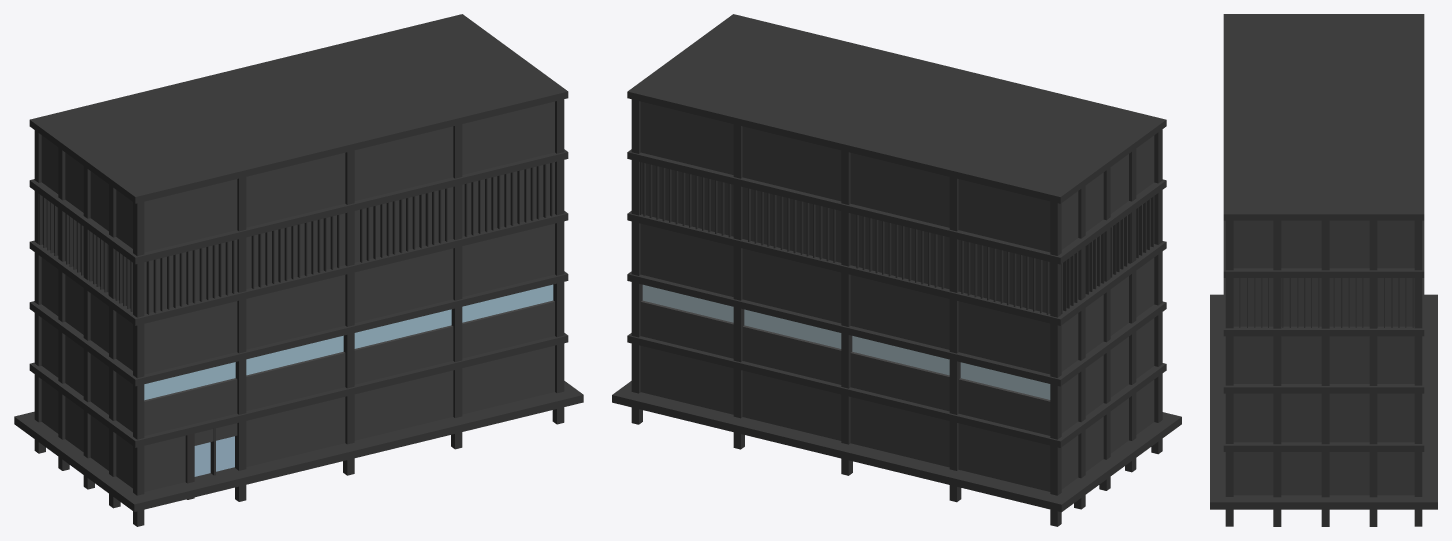
File: Factory.fbx
The picture shows the model from 3 angles, left to right: view 1: azimuth 30°, elevation 25°; view 2: azimuth 150°, elevation 25°; view 3: azimuth 270°, elevation 25°; orthographic projection. The views are drawn at different scales.
Visible parts, largest first — view 1: Cube.001, Cube.014, Cube, Cube.022, Cube.016, Cube.017, Cube.015, Cube.018, Cube.003, Cube.008, Cube.002, Cube.006 (+12 smaller); view 2: Cube.001, Cube.014, Cube, Cube.023, Cube.017, Cube.016, Cube.015, Cube.018, Cube.005, Cube.009, Cube.010, Cube.011 (+11 smaller); view 3: Cube.014, Cube.001, Cube, Cube.013, Cube.026, Cube.018, Cube.024, Cube.002, Cube.004, Cube.016, Cube.015, Cube.017 (+2 smaller).
Part boxes in pixels (x1=…): Cube.001: x1=41, y1=101, x2=554, y2=491; Cube.014: x1=29, y1=14, x2=568, y2=203; Cube: x1=14, y1=381, x2=583, y2=511; Cube.022: x1=144, y1=284, x2=553, y2=400; Cube.016: x1=29, y1=271, x2=568, y2=386; Cube.017: x1=29, y1=149, x2=568, y2=264; Cube.015: x1=29, y1=333, x2=568, y2=447; Cube.018: x1=29, y1=211, x2=568, y2=325; Cube.003: x1=133, y1=202, x2=144, y2=526; Cube.008: x1=235, y1=177, x2=246, y2=501; Cube.002: x1=552, y1=99, x2=564, y2=424; Cube.006: x1=343, y1=150, x2=354, y2=475; Cube.001: x1=640, y1=101, x2=1154, y2=491; Cube.014: x1=627, y1=14, x2=1166, y2=203; Cube: x1=612, y1=381, x2=1181, y2=512; Cube.023: x1=642, y1=284, x2=1050, y2=399; Cube.017: x1=627, y1=149, x2=1166, y2=264; Cube.016: x1=627, y1=271, x2=1166, y2=386; Cube.015: x1=627, y1=333, x2=1166, y2=447; Cube.018: x1=627, y1=211, x2=1166, y2=325; Cube.005: x1=1050, y1=201, x2=1061, y2=526; Cube.009: x1=949, y1=177, x2=961, y2=502; Cube.010: x1=733, y1=124, x2=744, y2=449; Cube.011: x1=841, y1=150, x2=852, y2=475; Cube.014: x1=1223, y1=14, x2=1424, y2=220; Cube.001: x1=1233, y1=220, x2=1414, y2=495; Cube: x1=1210, y1=294, x2=1437, y2=509; Cube.013: x1=1321, y1=220, x2=1329, y2=526; Cube.026: x1=1273, y1=220, x2=1281, y2=526; Cube.018: x1=1223, y1=278, x2=1424, y2=336; Cube.024: x1=1369, y1=220, x2=1377, y2=526; Cube.002: x1=1225, y1=220, x2=1233, y2=526; Cube.004: x1=1414, y1=220, x2=1422, y2=526; Cube.016: x1=1223, y1=336, x2=1424, y2=393; Cube.015: x1=1223, y1=393, x2=1424, y2=451; Cube.017: x1=1223, y1=220, x2=1424, y2=277.
Size of the model in its own units: 17475 by 12309 by 8091.
